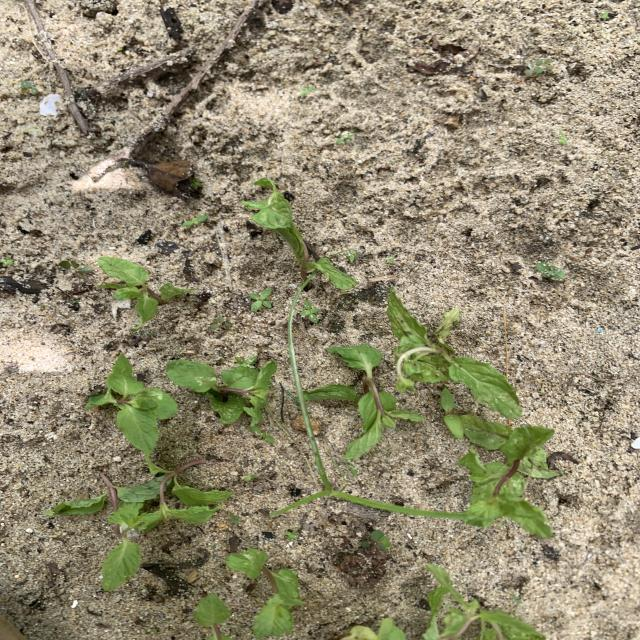crop: (387, 289, 522, 418), (242, 178, 357, 289), (457, 416, 561, 538), (306, 345, 415, 457), (423, 564, 545, 640), (85, 355, 177, 454), (117, 454, 231, 530), (166, 360, 276, 429), (226, 549, 304, 638), (97, 257, 189, 321), (101, 474, 142, 591), (194, 594, 231, 640), (341, 618, 406, 640), (46, 495, 108, 515)
weed: (271, 292, 462, 518), (440, 388, 463, 439), (249, 288, 273, 312), (363, 530, 389, 551), (525, 58, 553, 77), (299, 300, 321, 324), (249, 427, 275, 445), (182, 215, 208, 228), (233, 354, 258, 367), (19, 80, 39, 96), (334, 132, 356, 145), (210, 316, 232, 329), (59, 260, 80, 270), (0, 254, 14, 267), (298, 87, 314, 98), (190, 178, 203, 191), (599, 11, 615, 21), (284, 529, 297, 540), (558, 131, 568, 145), (346, 252, 358, 263), (243, 474, 259, 482), (228, 515, 239, 525), (349, 466, 360, 476), (385, 257, 396, 265)
